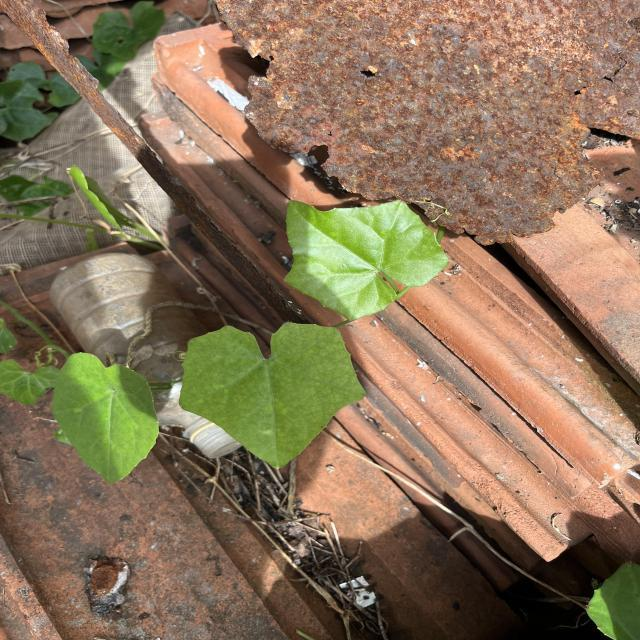Coccinia grandis: (178, 320, 368, 470), (282, 199, 450, 322)
